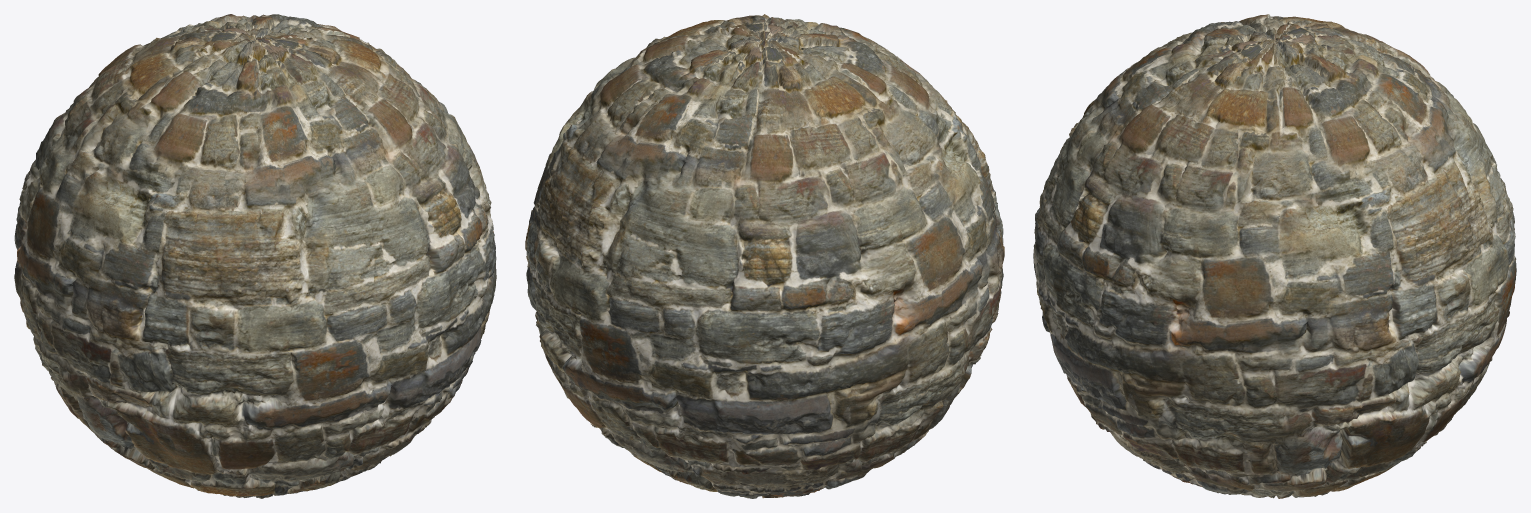
Rendered from castle_wall_varriation_1k.gltf.
3 renders of one model, left to right at view 1: azimuth 30°, elevation 25°; view 2: azimuth 150°, elevation 25°; view 3: azimuth 270°, elevation 25°, orthographic.
Parts seen in each view (by area): view 1: sphere_gltf; view 2: sphere_gltf; view 3: sphere_gltf.
Boxes of the visible parts, x1,y1,x2,y2 form: sphere_gltf: (14,14,496,498); sphere_gltf: (525,14,1004,498); sphere_gltf: (1033,14,1516,498).
Size of the model in its own units: 2.01 by 2.03 by 2.02.
Materials: 1 (1 with a texture image).
